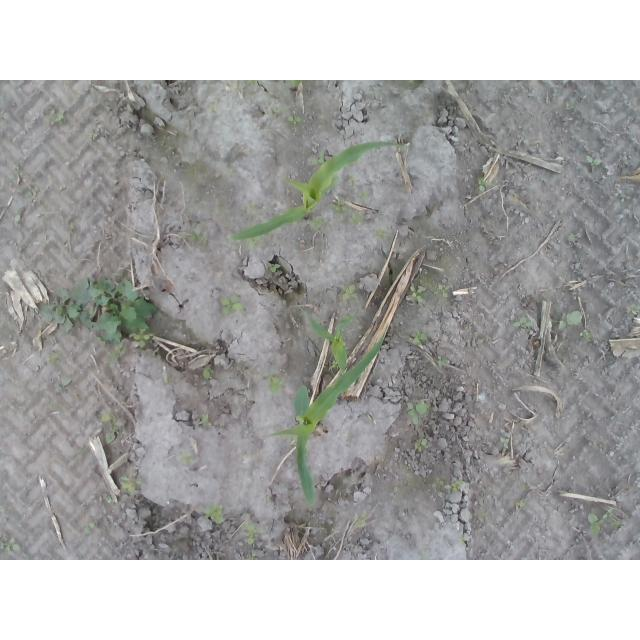Maize: (267, 336, 385, 509), (229, 141, 407, 243), (300, 308, 353, 377)
Weeds: (37, 275, 158, 349), (407, 284, 449, 305), (101, 408, 120, 445), (118, 475, 144, 498), (407, 400, 430, 425), (221, 293, 247, 315), (559, 310, 585, 331), (586, 511, 606, 538), (243, 521, 265, 545), (432, 476, 464, 492), (0, 535, 22, 557), (328, 199, 352, 218), (340, 284, 361, 304), (207, 504, 225, 525), (279, 80, 301, 97), (607, 504, 621, 529), (106, 349, 124, 368), (267, 375, 285, 394), (512, 314, 532, 331), (413, 328, 432, 345), (46, 351, 62, 370), (374, 224, 391, 240), (586, 154, 602, 171), (577, 328, 594, 344), (309, 215, 325, 230), (248, 201, 265, 215), (479, 177, 494, 192), (356, 511, 369, 528), (288, 115, 305, 128), (48, 113, 65, 126), (202, 367, 214, 385), (416, 438, 429, 454), (83, 520, 97, 534), (625, 303, 639, 317), (311, 152, 326, 165), (499, 431, 509, 449), (271, 103, 289, 113), (180, 452, 193, 465), (352, 212, 365, 224), (344, 311, 357, 322), (246, 80, 260, 88), (359, 191, 369, 202), (437, 356, 449, 365), (15, 208, 21, 225), (191, 231, 201, 241), (248, 239, 257, 250), (271, 264, 281, 273), (24, 190, 33, 200), (200, 413, 208, 423), (246, 553, 257, 560), (516, 500, 525, 508), (228, 169, 236, 178), (163, 376, 170, 385), (105, 496, 112, 504), (333, 360, 340, 368), (460, 534, 465, 544)
